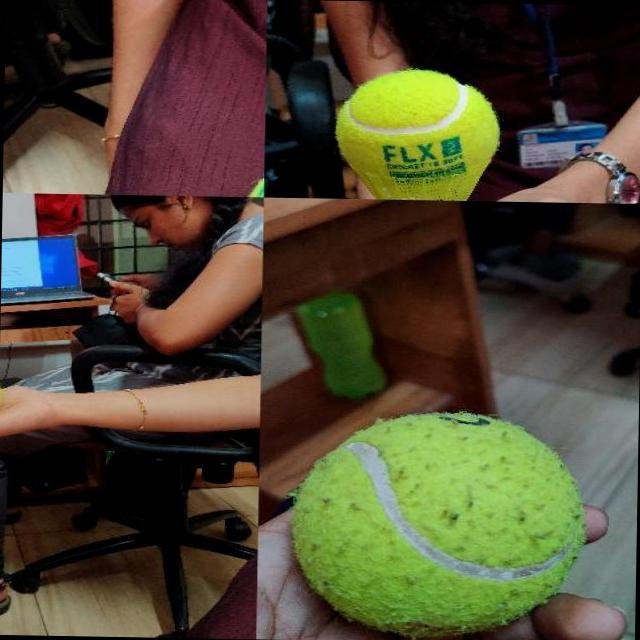Tennis Ball: (290, 408, 586, 636), (336, 68, 499, 159)
